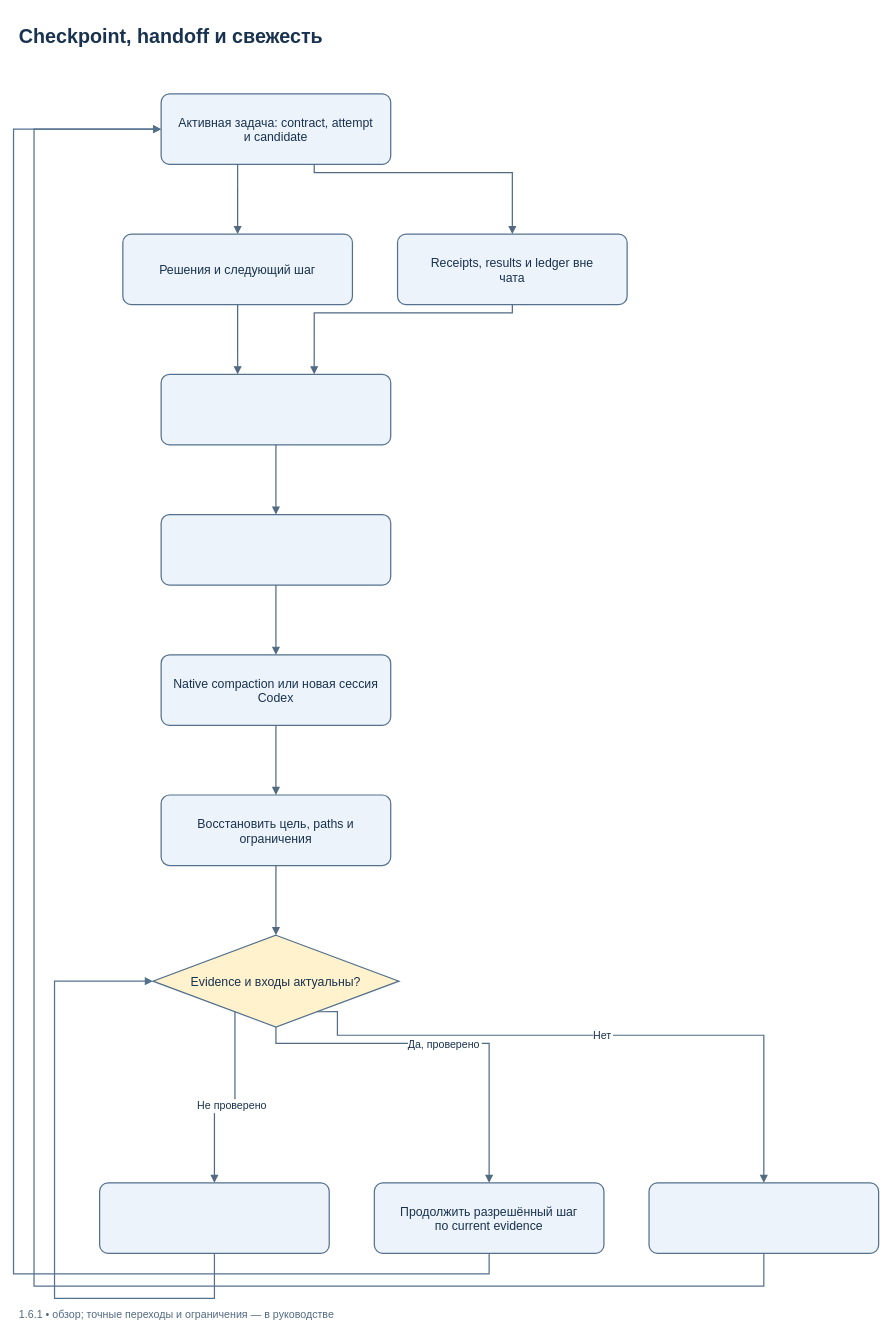
Image size: 892x1341. Some labels were removed from this diagram. Each missing label, with the centre of its shape:
Checkpoint текущей attempt: the point at 275,409
resume или verify-evidence: the point at 214,1218
Revalidation / repair: исходные attempts и deadline: the point at 763,1218
Компактный handoff с references: the point at 275,549
